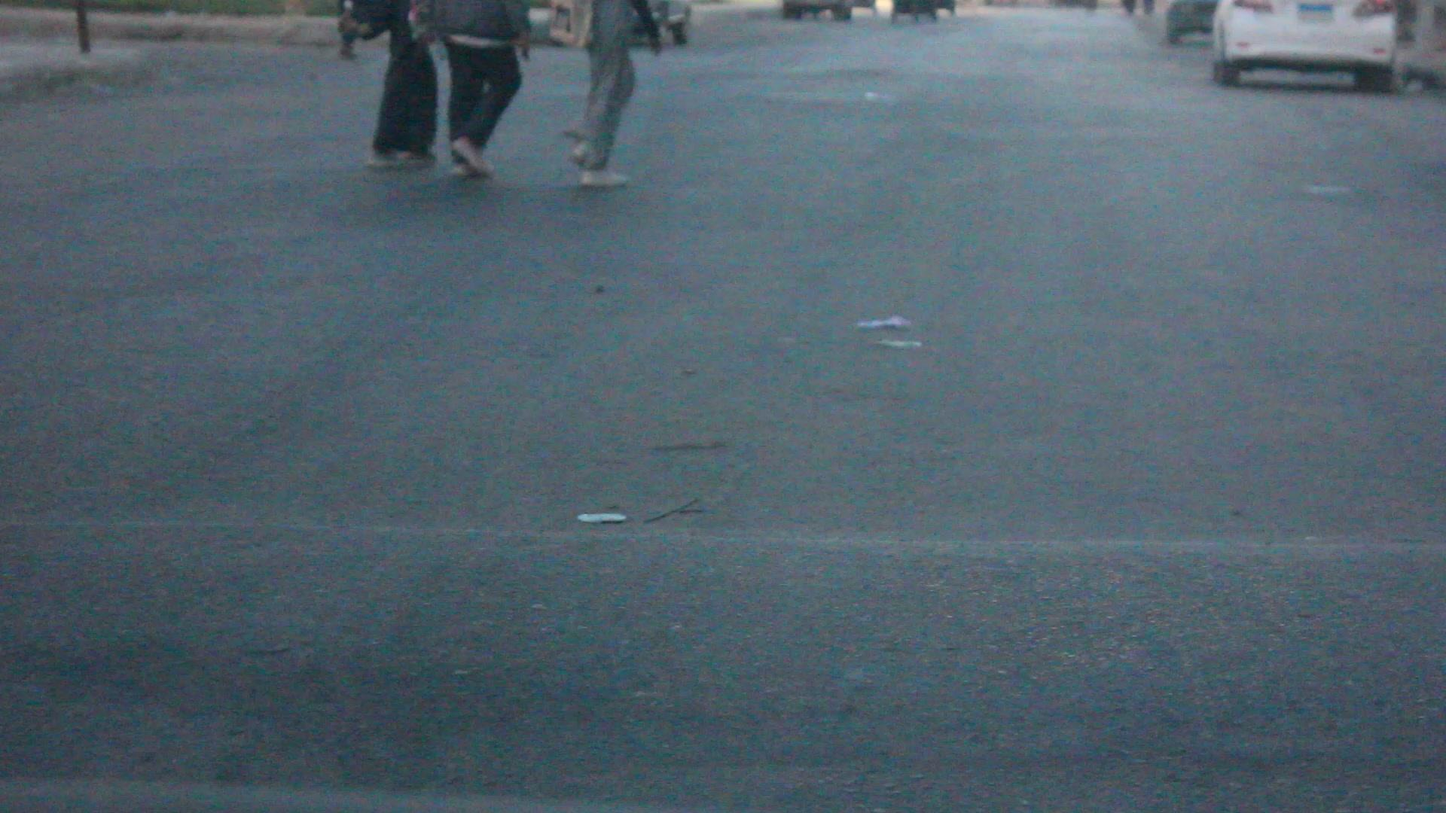Bump: (6, 501, 1446, 813)
